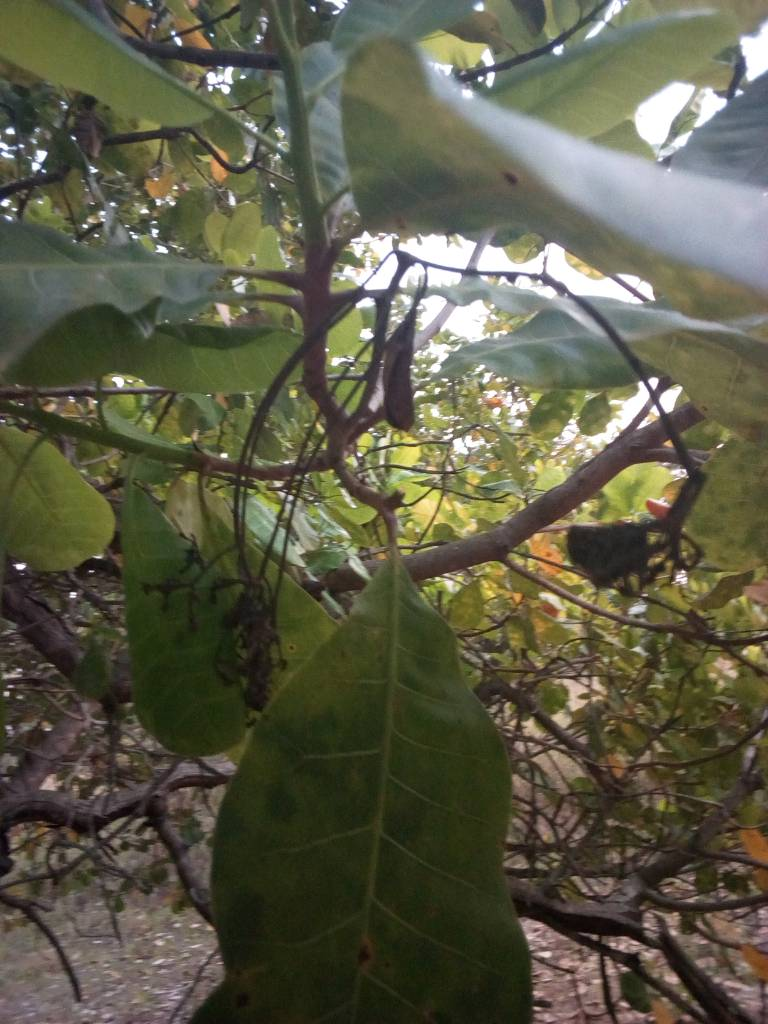Dessèchement des bourgeons: (152, 542, 285, 710), (563, 469, 708, 591)
